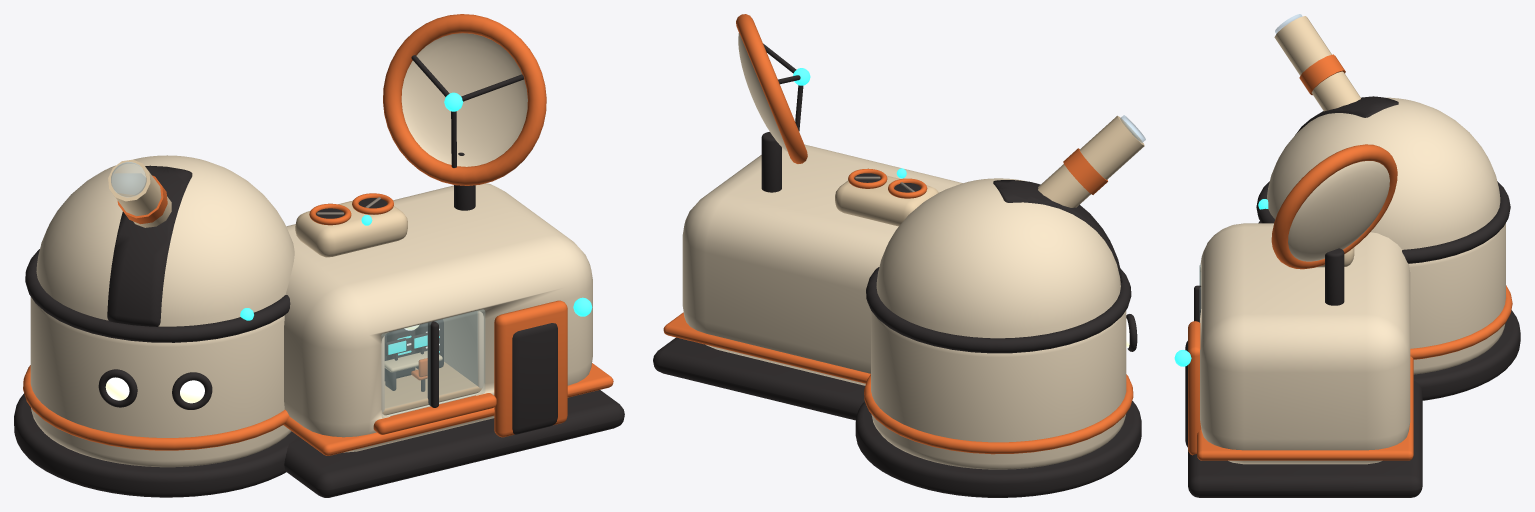
File: research-b-1.glb
3 renders of one model, left to right at view 1: azimuth 30°, elevation 25°; view 2: azimuth 150°, elevation 25°; view 3: azimuth 270°, elevation 25°, orthographic. The views are drawn at different scales.
Parts seen in each view (by area): view 1: Cube.001, Cylinder.001, Sphere, Sphere.005, Cube, Cylinder, Torus.004, Cube.033, Sphere.001, Torus.001, Cube.038, Cube.037 (+11 smaller); view 2: Cube.001, Sphere, Cylinder.001, Cylinder, Cube, Torus.001, Torus, pipe, Torus.004, Cube.036, Cube.039, Sphere.001 (+3 smaller); view 3: Cube.001, Sphere, Cylinder.001, Cube, Sphere.005, Torus.004, Cylinder, Cube.036, pipe, Torus.001, Cube.037, Torus (+3 smaller).
Part boxes in pixels (x1,y1,x2,y2): Cube.001: (284,183,592,452); Cylinder.001: (30,297,291,467); Sphere: (36,155,294,326); Sphere.005: (401,33,527,166); Cube: (284,390,624,497); Cylinder: (14,393,298,497); Torus.004: (383,14,546,185); Cube.033: (381,309,485,417); Sphere.001: (107,165,192,326); Torus.001: (25,249,290,342); Cube.038: (512,323,557,434); Cube.037: (494,300,567,437); Cube.001: (682,144,962,385); Sphere: (876,178,1120,338); Cylinder.001: (871,310,1126,469); Cylinder: (855,401,1141,497); Cube: (653,337,864,420); Torus.001: (866,267,1131,353); Torus: (864,374,1133,454); pipe: (1038,115,1144,207); Torus.004: (736,14,807,163); Cube.036: (663,312,870,383); Cube.039: (835,175,938,226); Sphere.001: (993,180,1122,282); Cube.001: (1200,223,1410,464); Sphere: (1267,97,1500,249); Cylinder.001: (1409,223,1505,374); Cube: (1188,381,1422,497); Sphere.005: (1288,161,1389,261); Torus.004: (1271,144,1397,269); Cylinder: (1413,310,1520,400); Cube.036: (1197,356,1413,460); pipe: (1274,16,1360,111); Torus.001: (1256,181,1510,263); Cube.037: (1188,321,1201,455); Torus: (1410,285,1512,359).
Bounding box in the file's own units: 2.05 × 1.47 × 1.42.
